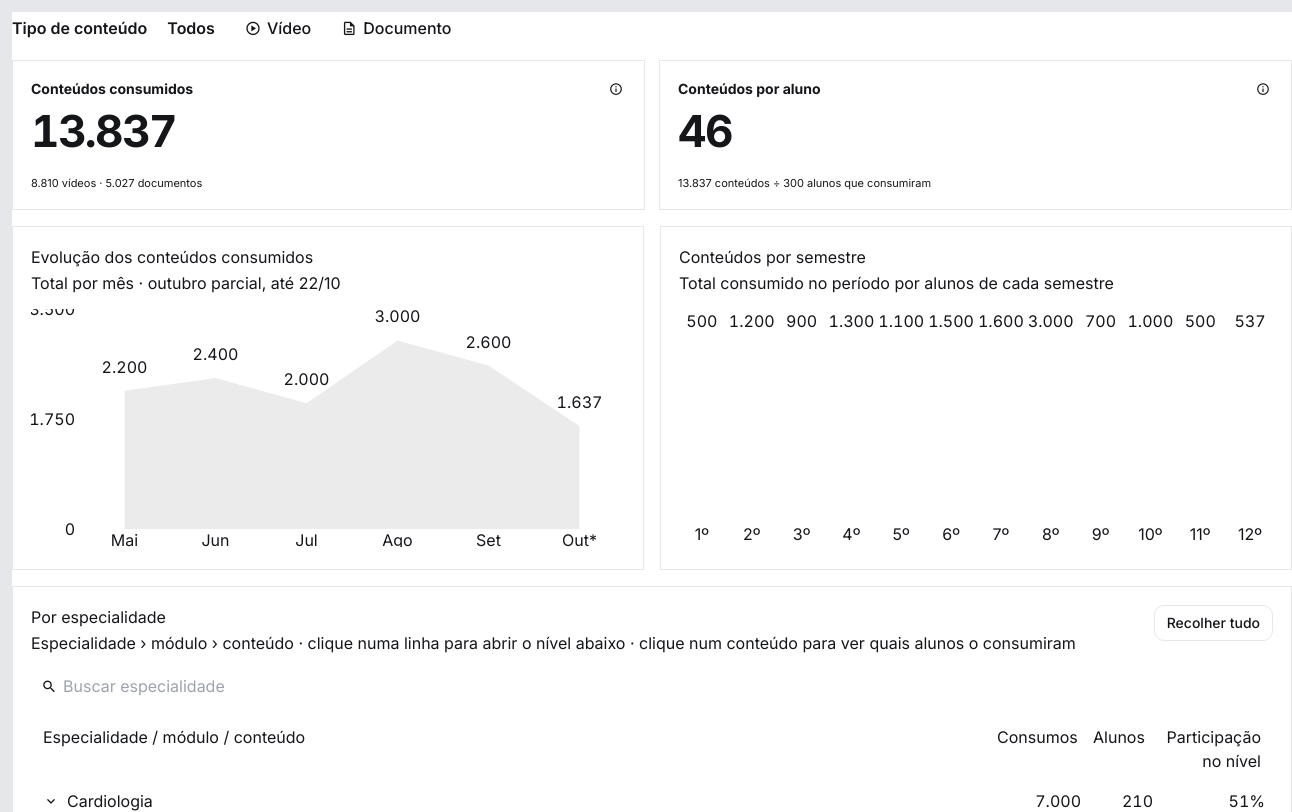
Scenario: ConteudosEngajamento — filtro, Evolução e Por semestre (§12.4) › trocar o tipo grava `tipo` na URL e refaz a consulta
The image size is (1292, 812).
Click the button "Vídeo".
click(278, 28)  # box [233, 12, 323, 44]
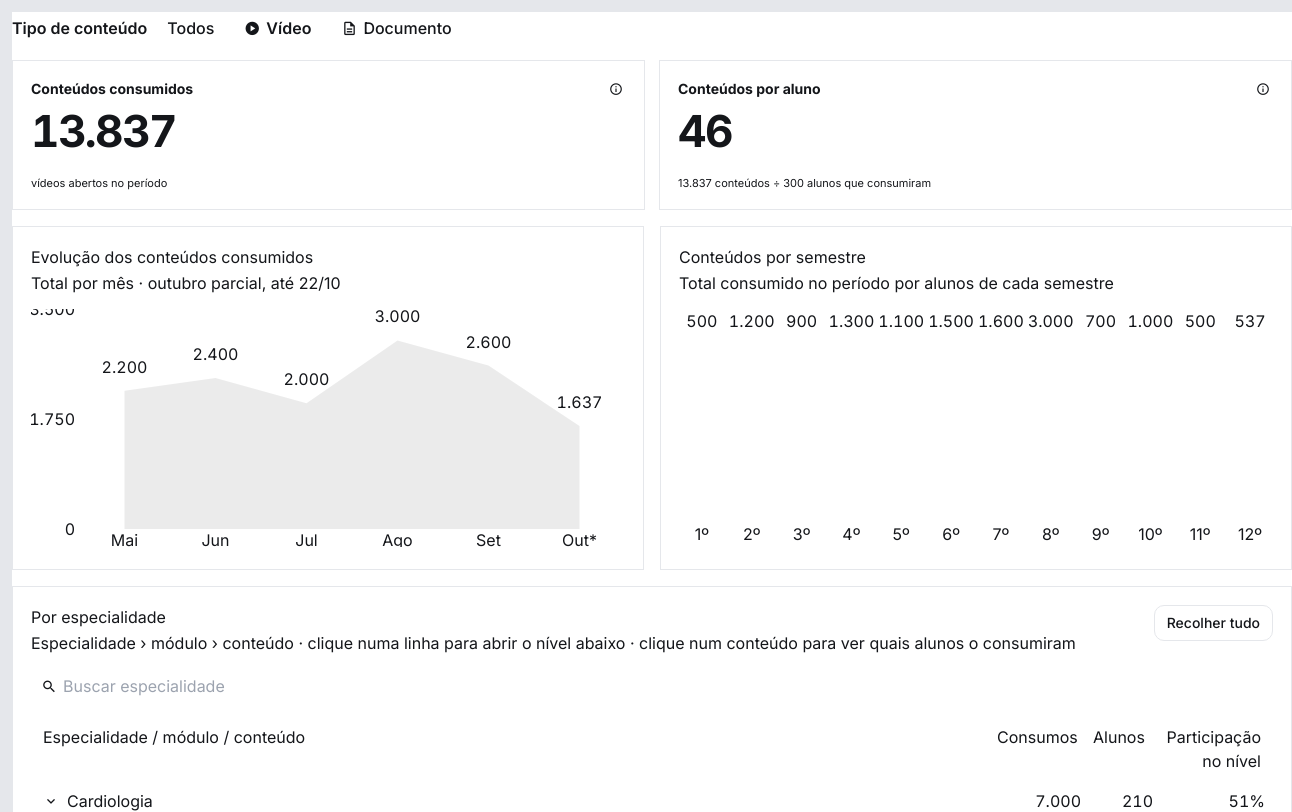
Check: the text with test id "kpi-rodape" reads "vídeos abertos no período", box [31, 176, 167, 190]
